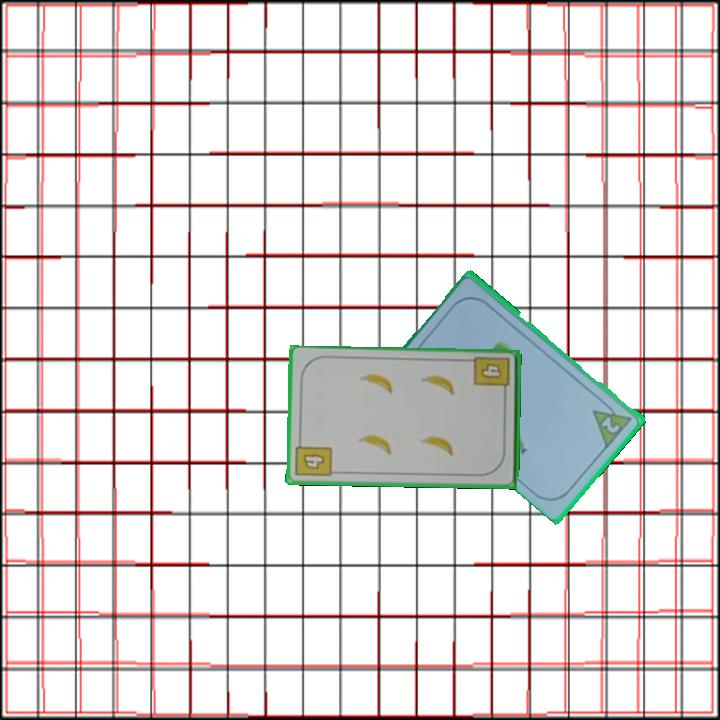2p: (598, 413, 623, 436)
4b: (292, 436, 335, 480), (471, 353, 513, 398)
